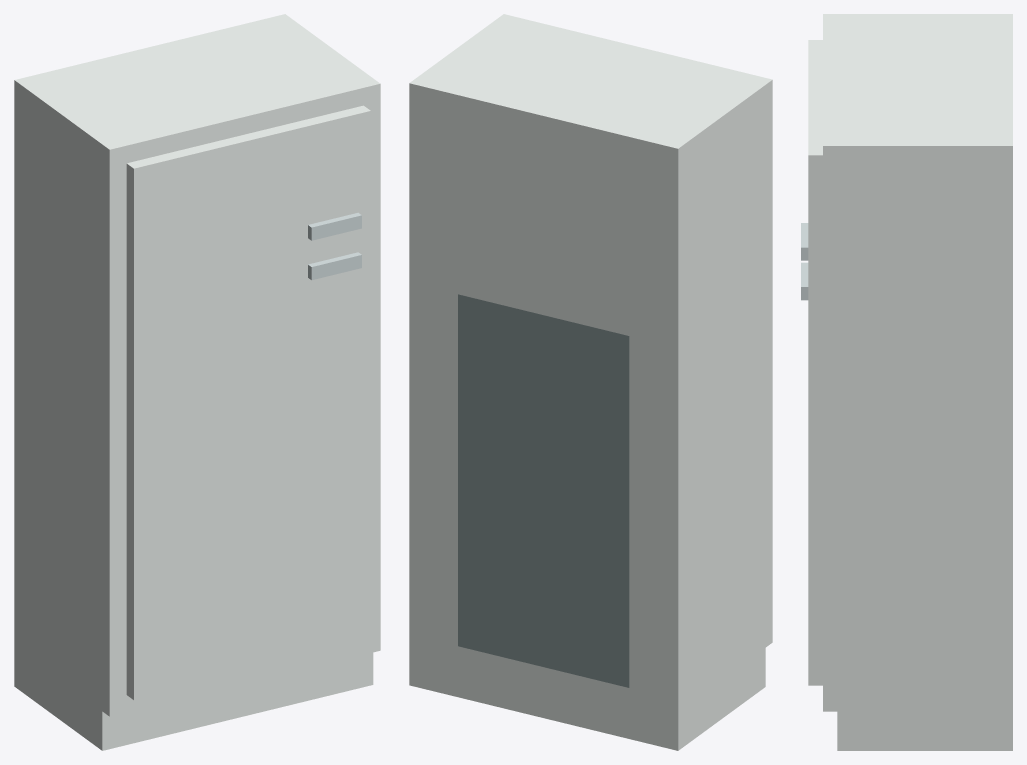
The model's file is kitchenFridge.glb.
The picture shows the model from 3 angles, left to right: view 1: azimuth 30°, elevation 25°; view 2: azimuth 150°, elevation 25°; view 3: azimuth 270°, elevation 25°; orthographic projection.
Visible parts, largest first — view 1: kitchenFridge(Clone), doorFridge, doorFreezer; view 2: kitchenFridge(Clone); view 3: kitchenFridge(Clone), doorFridge, doorFreezer.
Part boxes in pixels (bbox=[...]): kitchenFridge(Clone): bbox=[14, 14, 380, 750]; doorFridge: bbox=[126, 236, 370, 699]; doorFreezer: bbox=[126, 105, 370, 293]; kitchenFridge(Clone): bbox=[409, 14, 772, 750]; kitchenFridge(Clone): bbox=[823, 14, 1012, 750]; doorFridge: bbox=[801, 262, 822, 685]; doorFreezer: bbox=[801, 40, 822, 279].
Size of the model in its own units: 0.8729 by 1.87 by 0.5926.
Materials: 4 (4 with a texture image).
